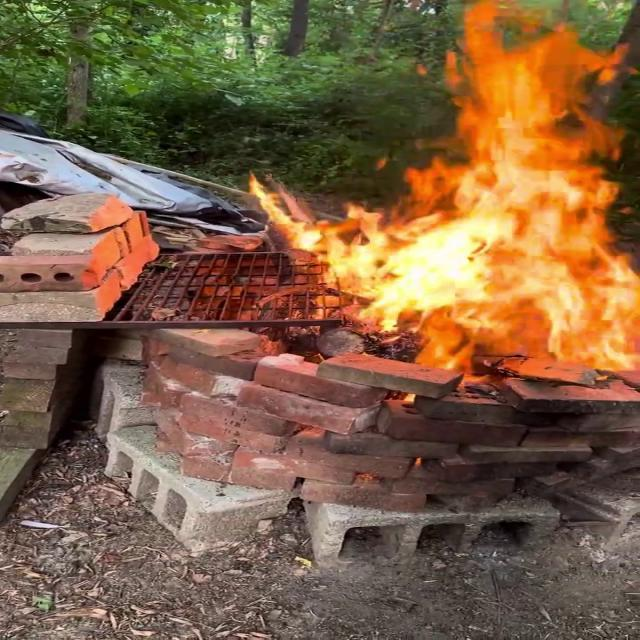Fire: (248, 0, 640, 392)
